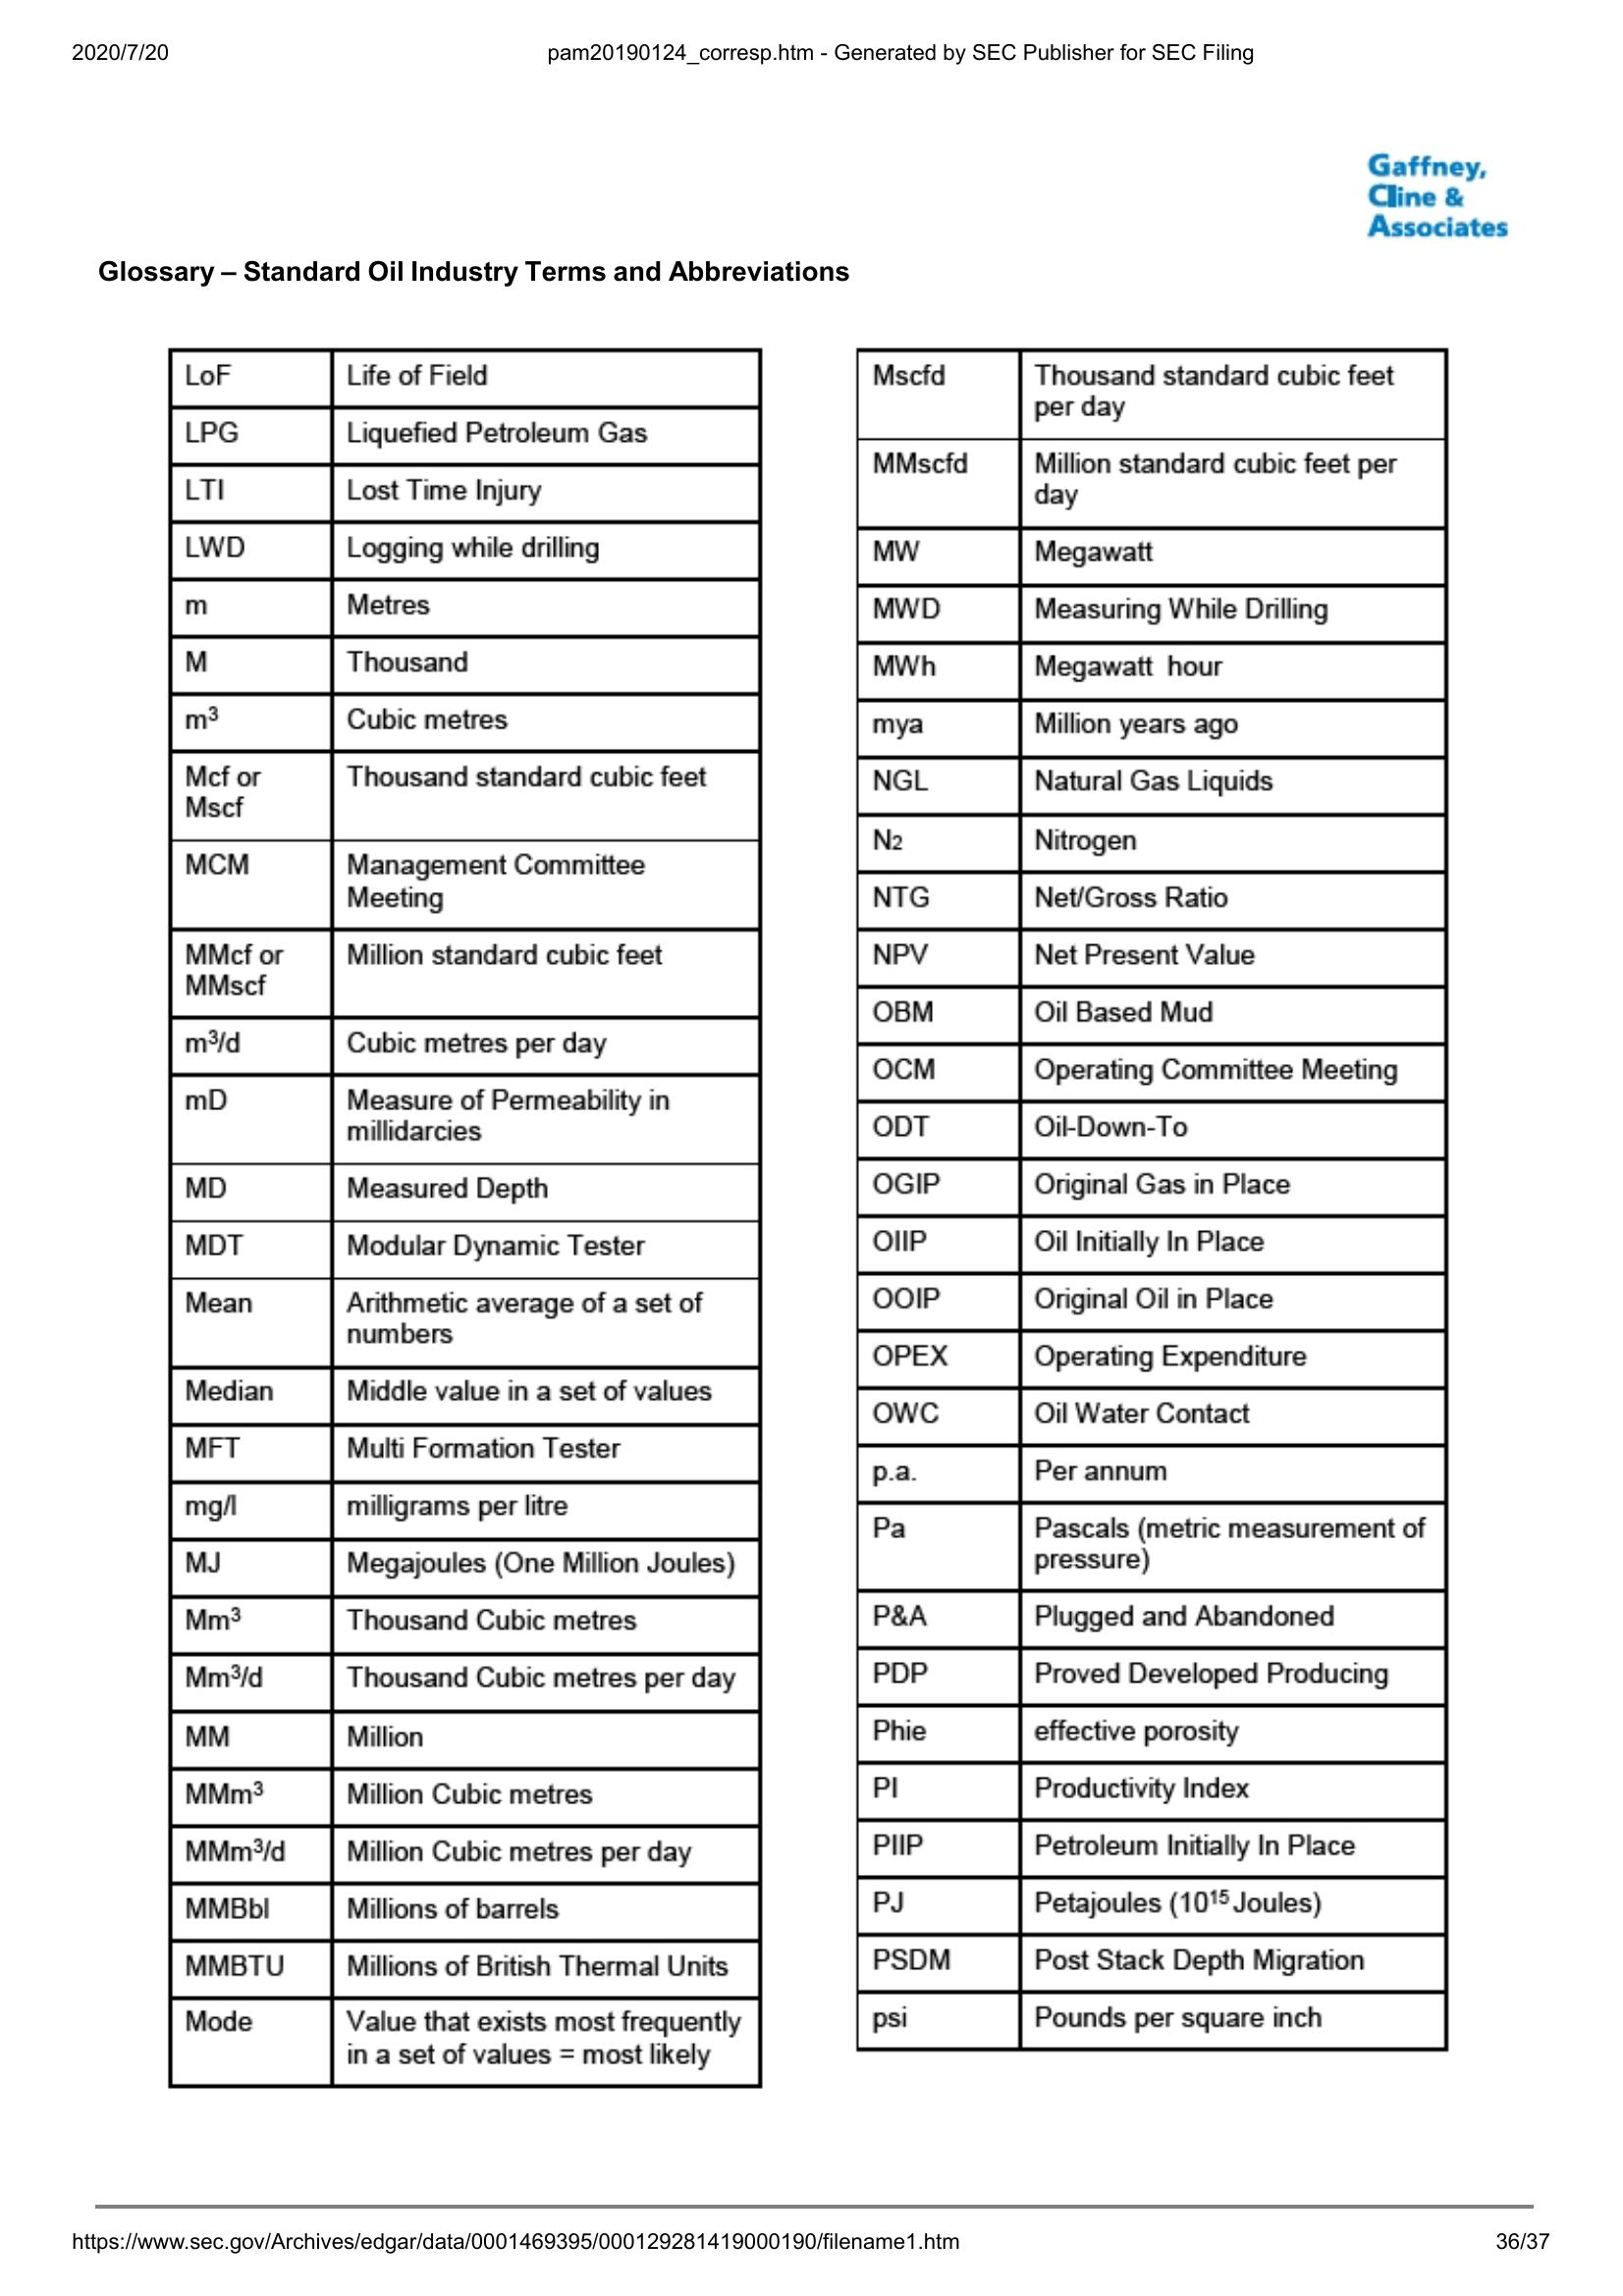table: (160, 344, 771, 2099), (845, 342, 1458, 2061)
